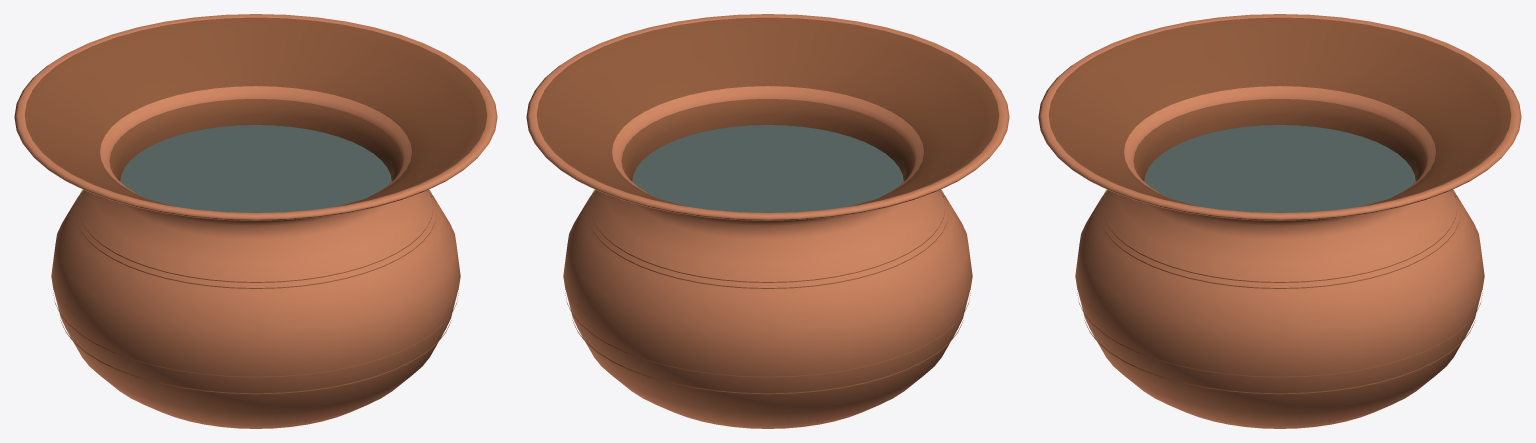
File: copper_lota.glb
3 renders of one model, left to right at view 1: azimuth 30°, elevation 25°; view 2: azimuth 150°, elevation 25°; view 3: azimuth 270°, elevation 25°, orthographic.
Visible parts, largest first — view 1: Copper lota; view 2: Copper lota; view 3: Copper lota.
Part boxes in pixels (x1=…): Copper lota: x1=14, y1=14, x2=497, y2=428; Copper lota: x1=526, y1=14, x2=1009, y2=428; Copper lota: x1=1038, y1=14, x2=1521, y2=428.
Bounding box in the file's own units: 1.18 × 0.719 × 1.18.
